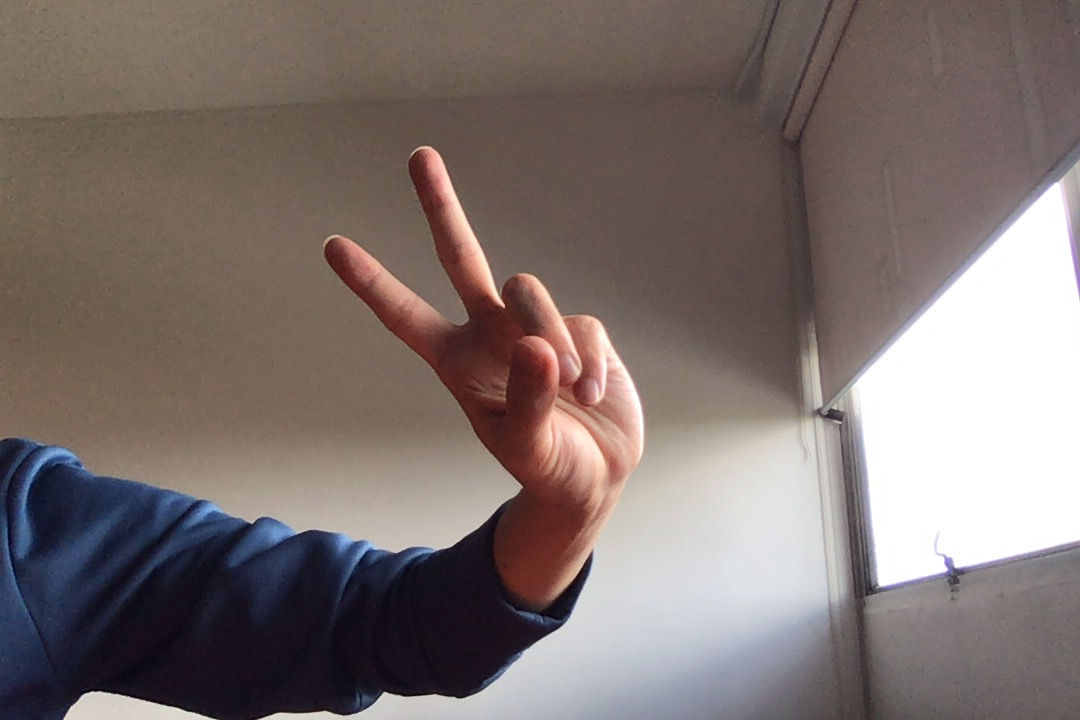peacesign: (315, 137, 663, 508)
